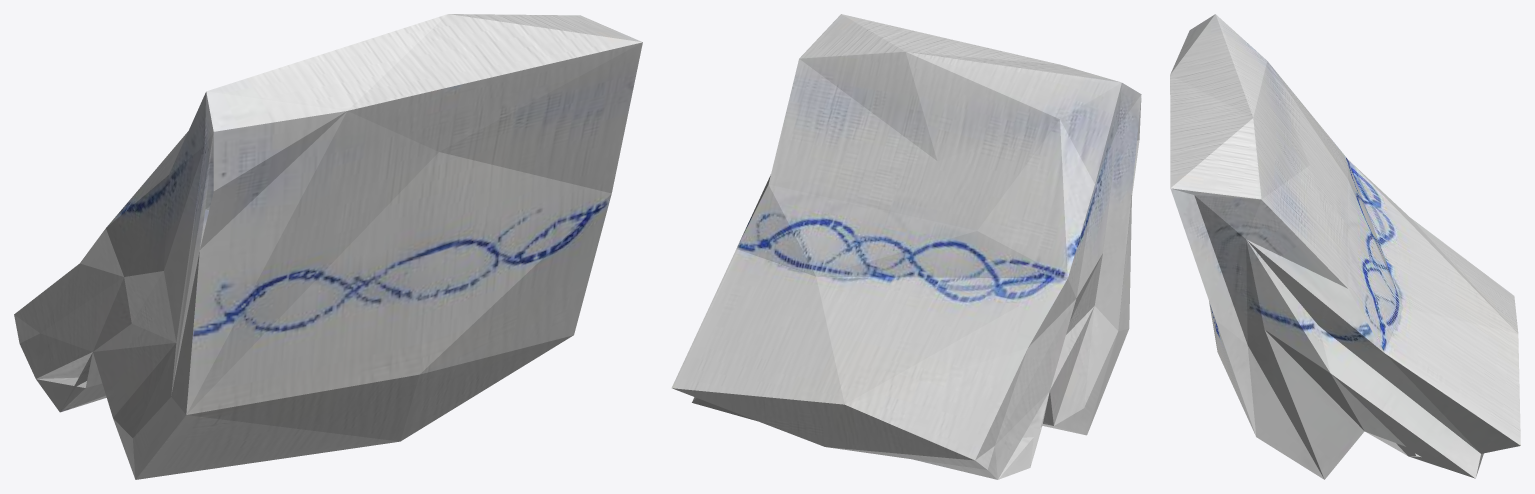
Rendered from Gauze.glb.
3 views of the same model, side by side, from view 1: azimuth 30°, elevation 25°; view 2: azimuth 150°, elevation 25°; view 3: azimuth 270°, elevation 25° (orthographic). The views are drawn at different scales.
Visible parts, largest first — view 1: Gauze; view 2: Gauze; view 3: Gauze.
Boxes of the visible parts, bbox=[...] form: Gauze: bbox=[14, 14, 642, 479]; Gauze: bbox=[671, 14, 1141, 479]; Gauze: bbox=[1170, 14, 1520, 479].
Size of the model in its own units: 0.2 by 0.1933 by 0.1869.
1 material, 1 textured.
